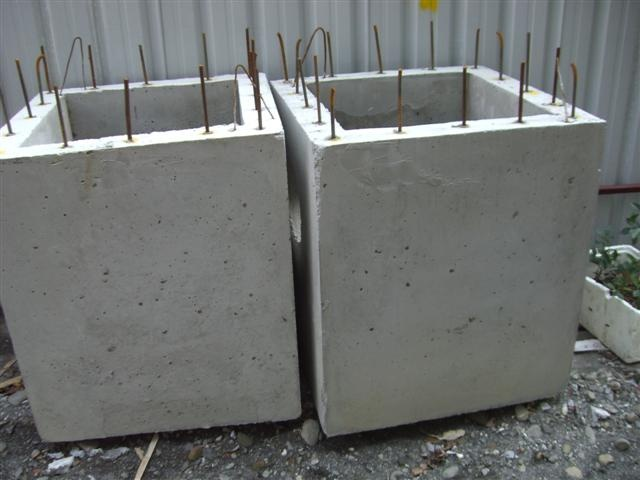box: (270, 64, 610, 440), (5, 73, 305, 444)
styrofoam: (579, 244, 640, 365)
